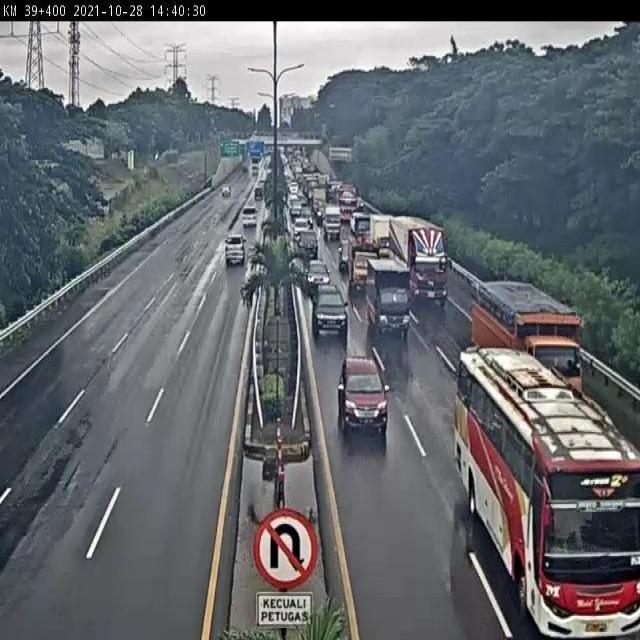big bus: (457, 346, 640, 640)
big truck: (384, 213, 444, 300)
car: (338, 357, 389, 431), (308, 285, 348, 336), (222, 237, 248, 267), (296, 228, 319, 260), (305, 260, 330, 289), (239, 207, 259, 232)
mid truck: (470, 275, 581, 412)
small truck: (365, 256, 409, 331), (349, 247, 381, 300)
